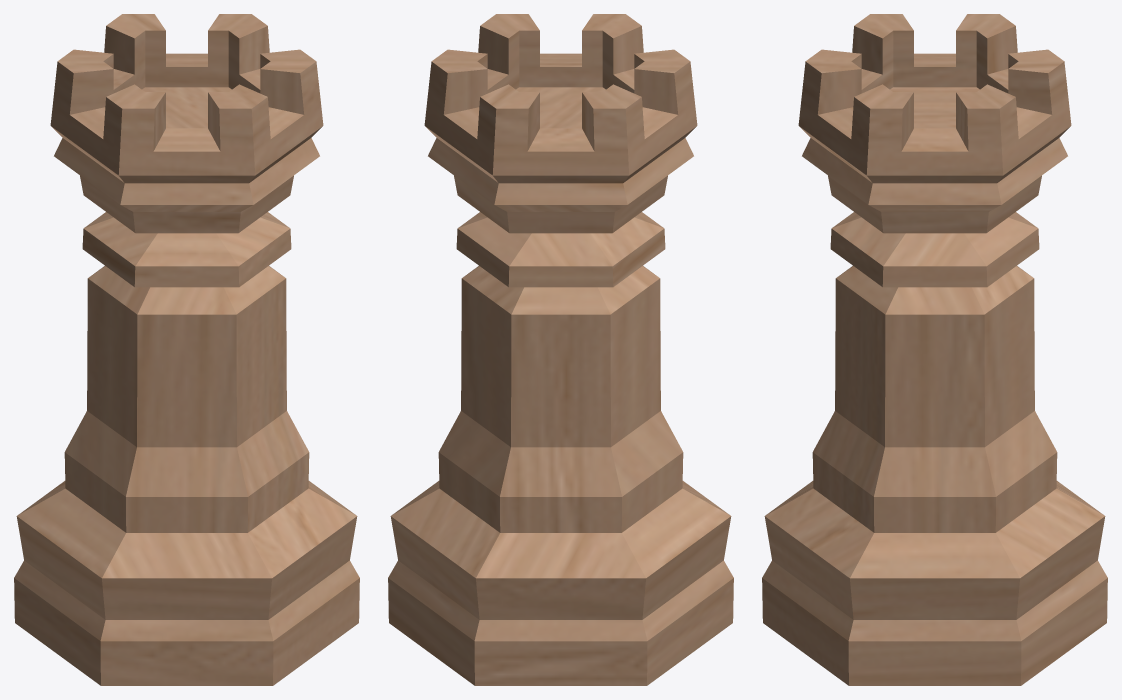
The model's file is rook.obj.
3 renders of one model, left to right at view 1: azimuth 30°, elevation 25°; view 2: azimuth 150°, elevation 25°; view 3: azimuth 270°, elevation 25°, orthographic.
Parts seen in each view (by area): view 1: Rook; view 2: Rook; view 3: Rook.
Part boxes in pixels (box(x1,y1,x2,y2)): Rook: box(14, 14, 359, 685); Rook: box(388, 14, 733, 685); Rook: box(762, 14, 1107, 685).
Size of the model in its own units: 0.8485 by 1.76 by 0.9797.
Materials: 1 (1 with a texture image).
